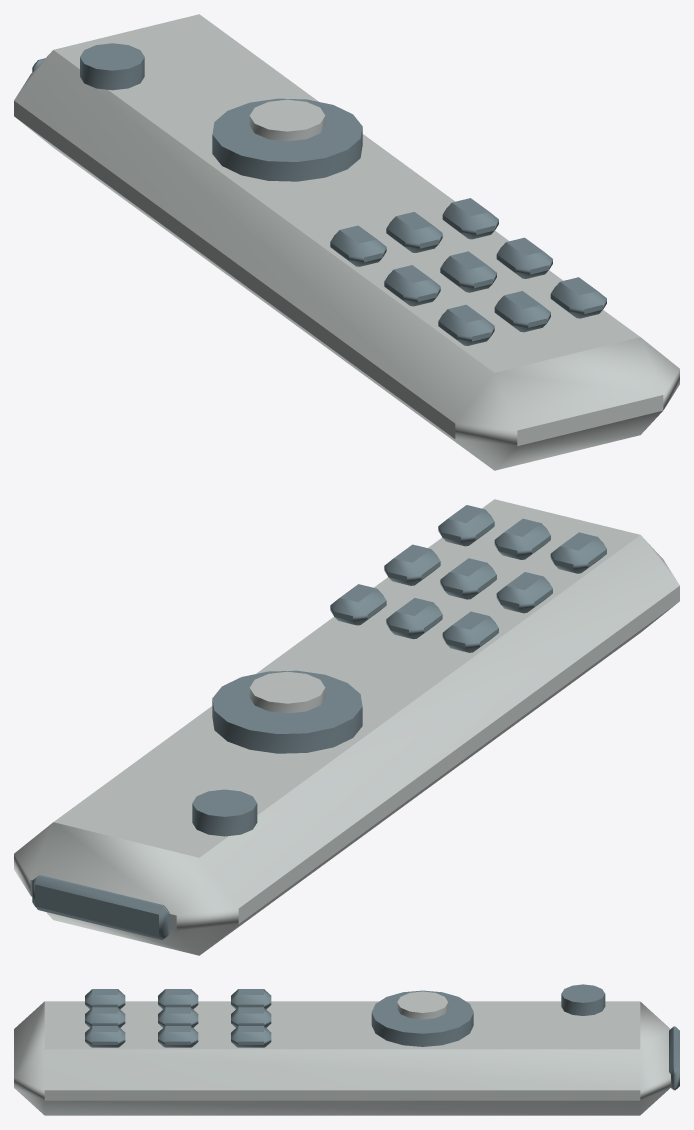
The model's file is tv-remote.glb.
3 renders of one model, top to bottom at view 1: azimuth 30°, elevation 25°; view 2: azimuth 150°, elevation 25°; view 3: azimuth 270°, elevation 25°, orthographic. The views are drawn at different scales.
Visible parts, largest first — view 1: remote_shell, navigation_ring, power_button, select_button, key.004, key.002, key, key.008, key.006, key.001, key.005, key.007 (+1 smaller); view 2: remote_shell, navigation_ring, infrared_window, power_button, select_button, key.001, key.008, key.004, key.006, key, key.005, key.003 (+2 smaller); view 3: remote_shell, navigation_ring, power_button, select_button, key.007, key.008, key.006, key, key.001, key.002, key.003, key.004 (+2 smaller).
Boxes of the visible parts, x1,y1,x2,y2 form: remote_shell: (14,14,679,470); navigation_ring: (212,98,362,181); power_button: (80,43,144,90); select_button: (249,99,325,141); key.004: (440,251,496,292); key.002: (438,304,494,345); key: (330,225,386,266); key.008: (550,277,606,318); key.006: (442,198,498,239); key.001: (384,265,440,306); key.005: (494,291,550,332); key.007: (496,237,552,278); remote_shell: (14,499,679,955); navigation_ring: (212,670,362,753); infrared_window: (32,875,169,940); power_button: (192,789,257,836); select_button: (249,671,325,713); key.001: (496,572,552,613); key.008: (438,505,494,546); key.004: (440,558,496,599); key.006: (330,584,386,625); key: (442,611,498,652); key.005: (494,518,550,559); key.003: (386,598,442,639); remote_shell: (14,1001,670,1115); navigation_ring: (371,990,473,1046); power_button: (561,984,605,1015); select_button: (397,991,448,1019); key.007: (158,1026,198,1047); key.008: (85,1026,125,1047); key.006: (231,1026,271,1047); key: (231,989,271,1009); key.001: (158,989,198,1009); key.002: (85,989,125,1009); key.003: (231,1007,271,1027); key.004: (158,1007,198,1027).
Bounding box in the file's own units: 0.048 × 0.027 × 0.1825.
